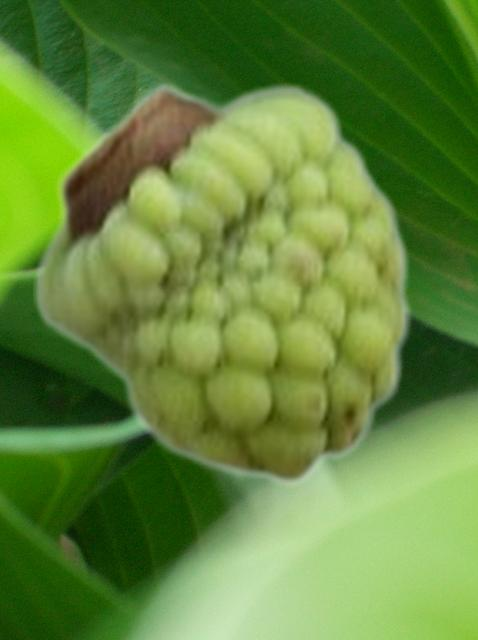atis: (33, 79, 413, 489)
